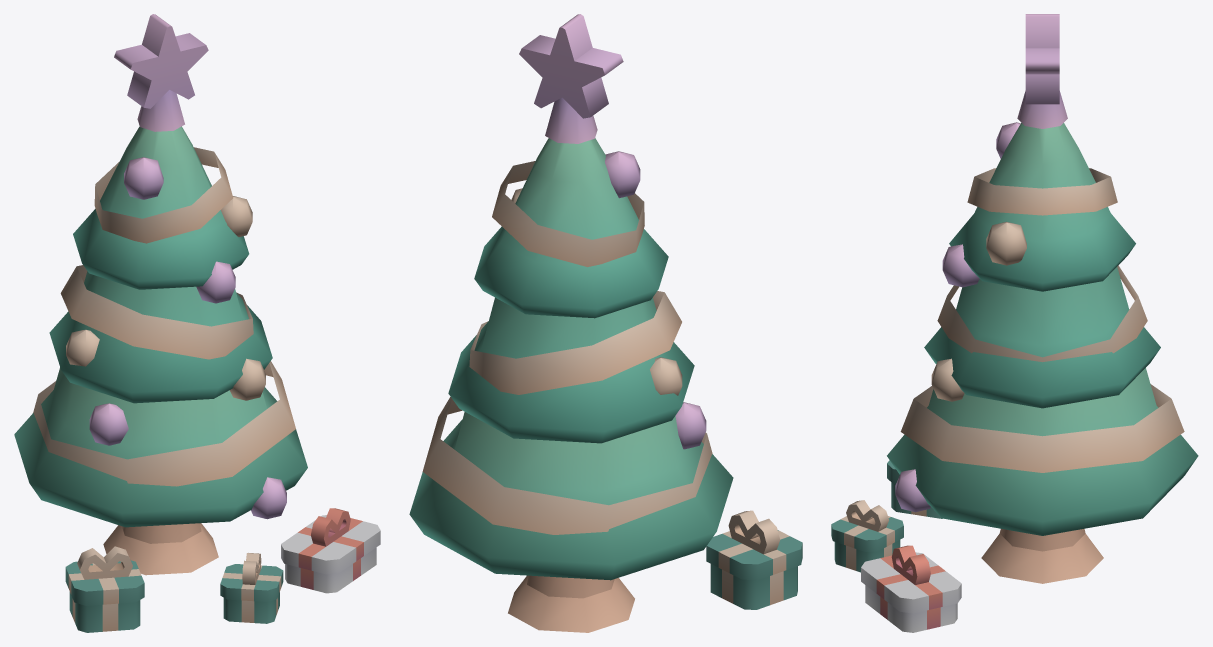
Rendered from xmas-tree.glb.
The picture shows the model from 3 angles, left to right: view 1: azimuth 30°, elevation 25°; view 2: azimuth 150°, elevation 25°; view 3: azimuth 270°, elevation 25°; orthographic projection. The views are drawn at different scales.
Parts seen in each view (by area): view 1: xmas-tree; view 2: xmas-tree; view 3: xmas-tree.
Boxes of the visible parts, x1,y1,x2,y2 form: xmas-tree: [14, 14, 380, 632]; xmas-tree: [409, 14, 802, 632]; xmas-tree: [831, 14, 1198, 632].
Size of the model in its own units: 1.36 by 2.29 by 1.4.
